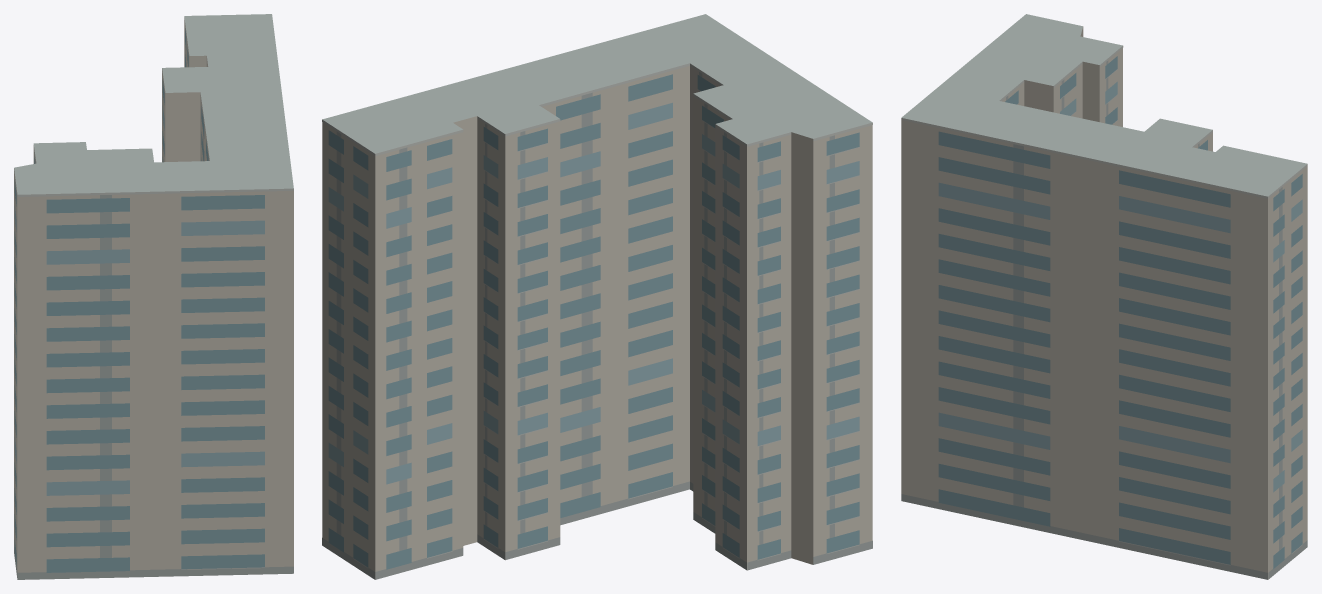
Rendered from residential-ab3b05de-fca8-4f97-b2cf-47666dd6ee4a.glb.
3 renders of one model, left to right at view 1: azimuth 30°, elevation 25°; view 2: azimuth 150°, elevation 25°; view 3: azimuth 270°, elevation 25°, orthographic. The views are drawn at different scales.
Visible parts, largest first — view 1: residential-ab3b05de-fca8-4f97-b2cf-47666dd6ee4a.tmp; view 2: residential-ab3b05de-fca8-4f97-b2cf-47666dd6ee4a.tmp; view 3: residential-ab3b05de-fca8-4f97-b2cf-47666dd6ee4a.tmp.
Part boxes in pixels (x1=…): residential-ab3b05de-fca8-4f97-b2cf-47666dd6ee4a.tmp: x1=14, y1=14, x2=293, y2=579; residential-ab3b05de-fca8-4f97-b2cf-47666dd6ee4a.tmp: x1=322, y1=14, x2=872, y2=579; residential-ab3b05de-fca8-4f97-b2cf-47666dd6ee4a.tmp: x1=901, y1=14, x2=1307, y2=579.
Size of the model in its own units: 43.96 by 43 by 41.34.
